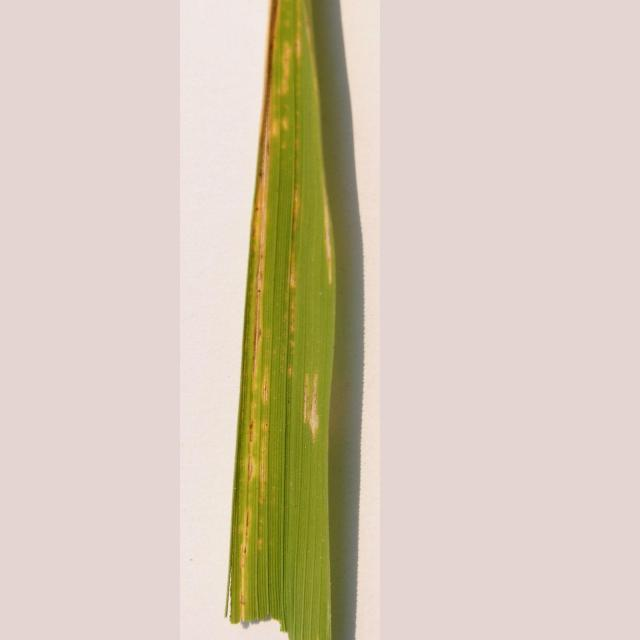leaf blight: (225, 3, 337, 625)
